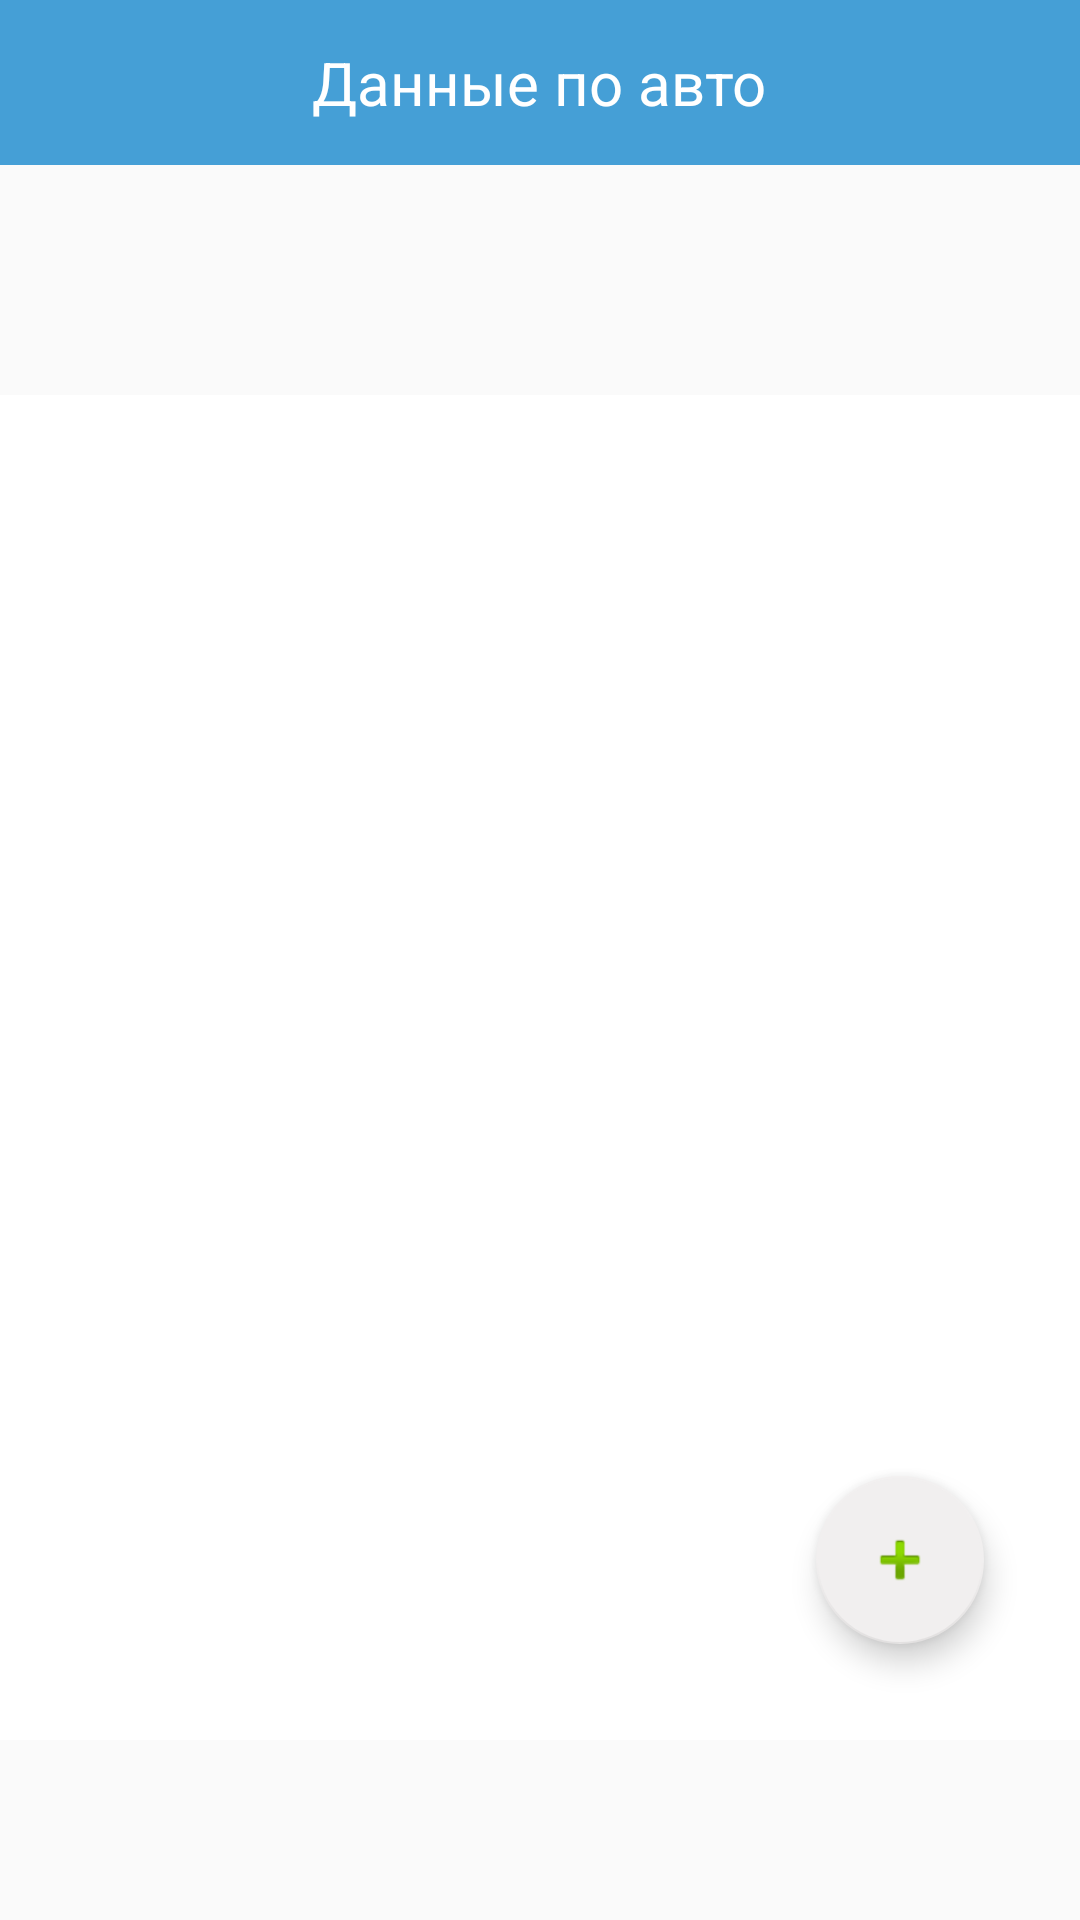

Named icons in this screenshot (1080px x 1920px) and their centers, (x,y):
add: (900,1560)
